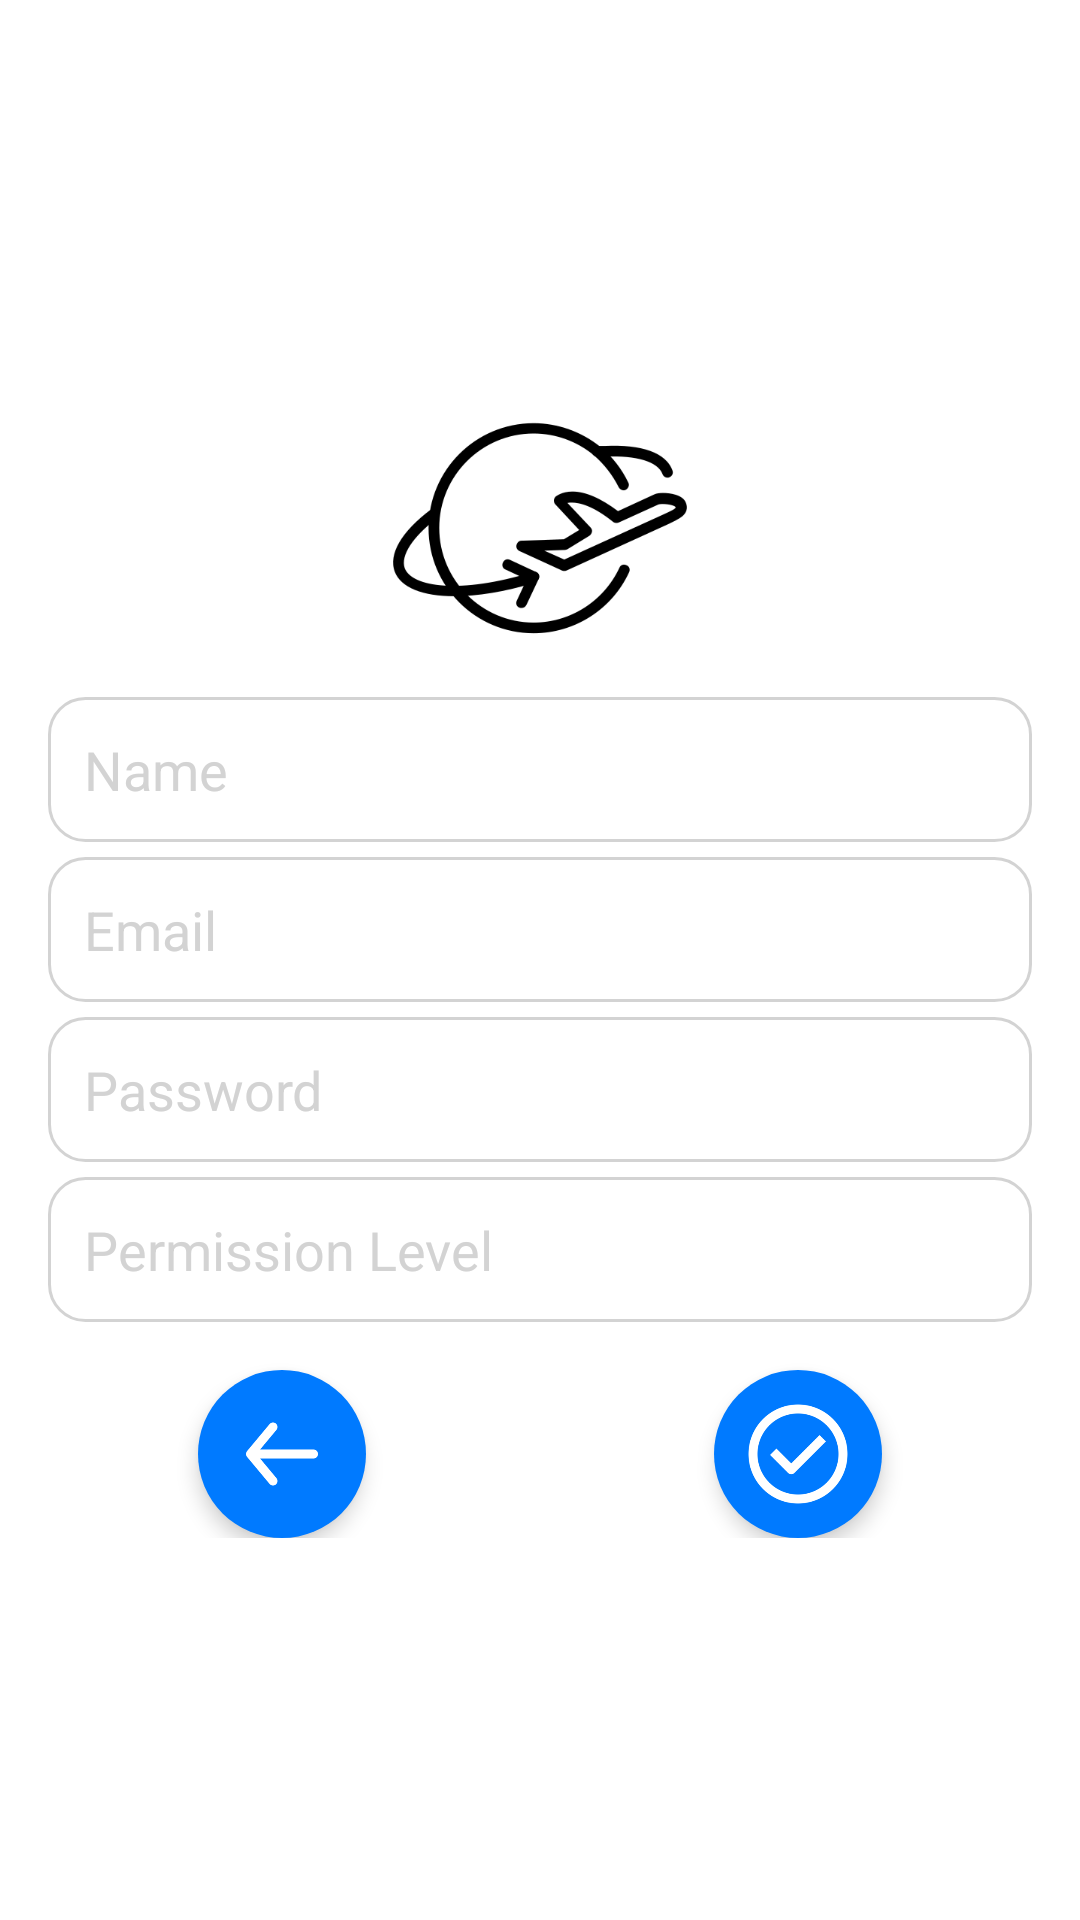

Where icons sit on this 1080 × 1920 app screen, as BBox(x1, y1, x2, y2):
back arrow: BBox(198, 1370, 366, 1538)
Login Screen Icon: BBox(393, 423, 687, 634)
verified: BBox(714, 1370, 882, 1538)
